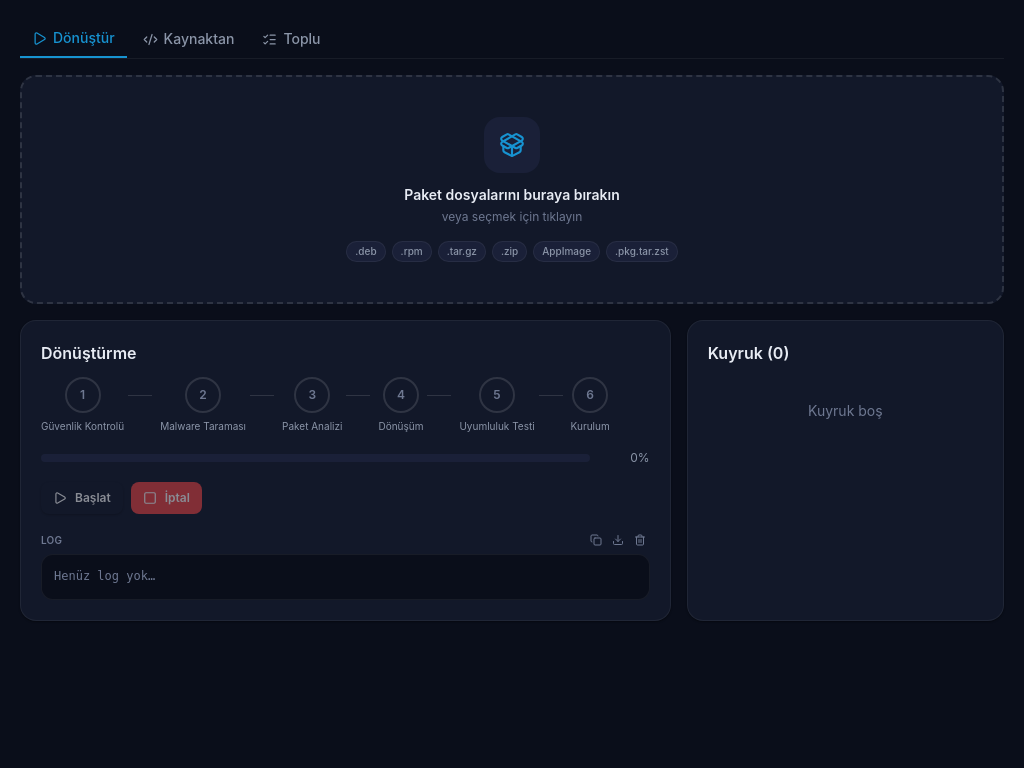
it: Convert page › renders the batch tab and loads the queue on switch
The width and height of the screenshot is (1024, 768).
Click the button "Toplu": (291, 39) [250,20,332,58]
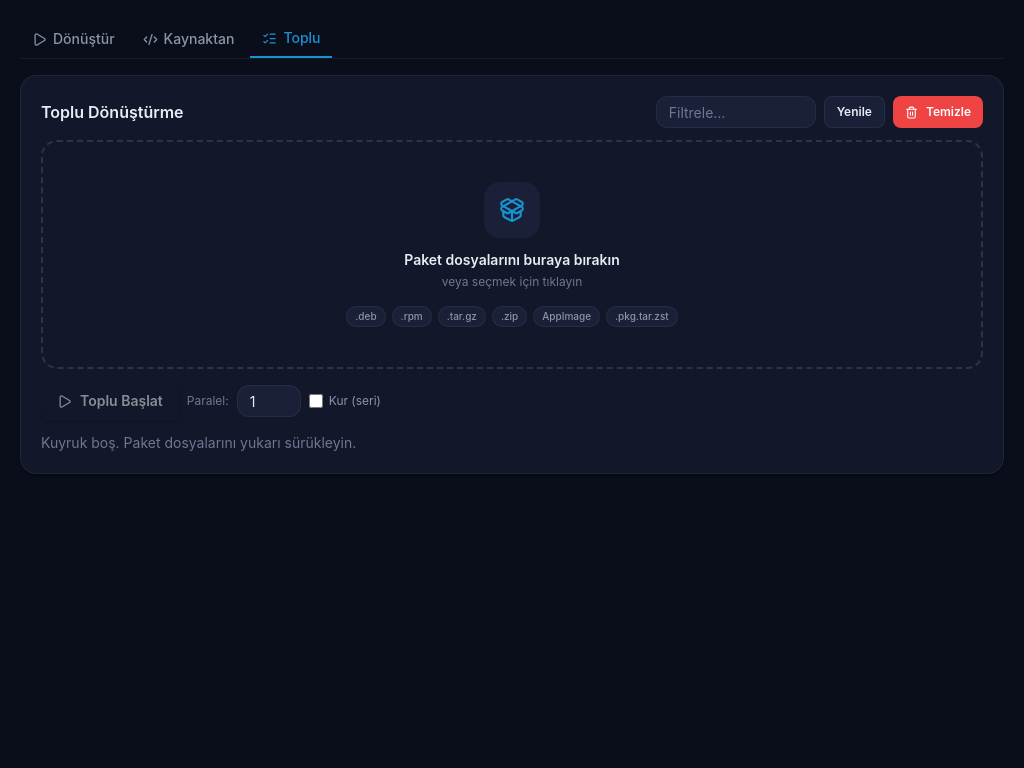
Expected: the heading "Toplu Dönüştürme" is shown, [41,100,184,124]
